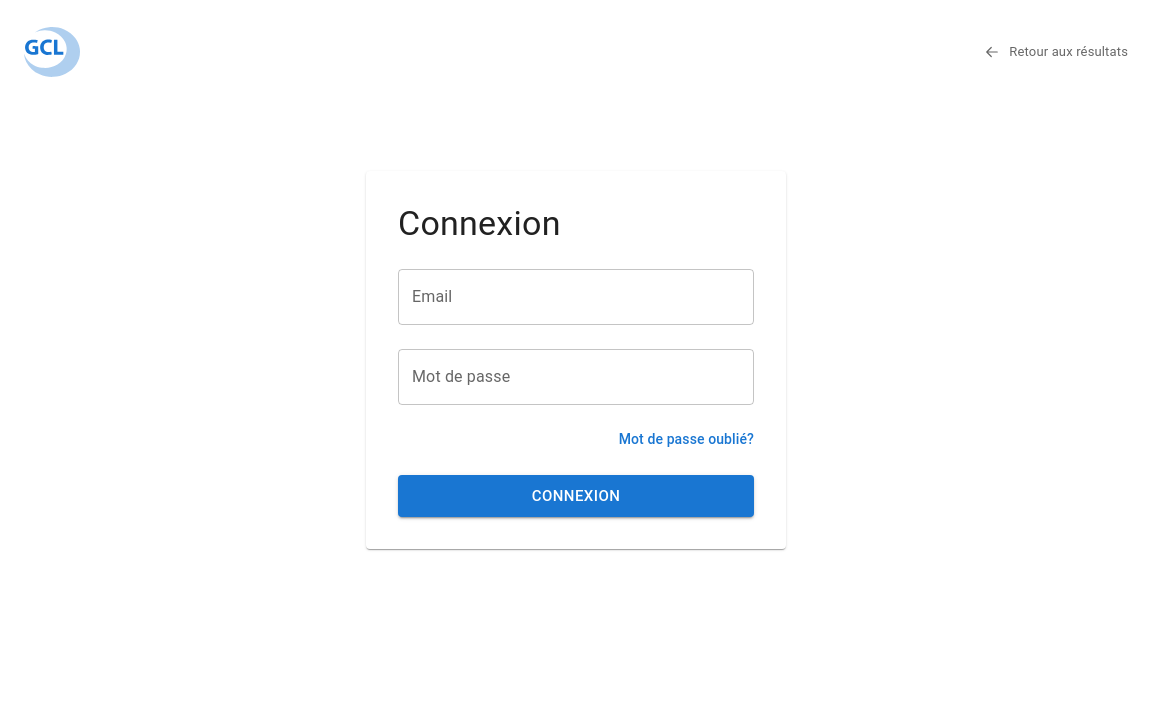
Test: login › toggles password visibility without changing the entered password
Type "example-password" into the password field labelled "Mot de passe" at {"x": 563, "y": 377}, box left=398, top=349, right=728, bottom=405
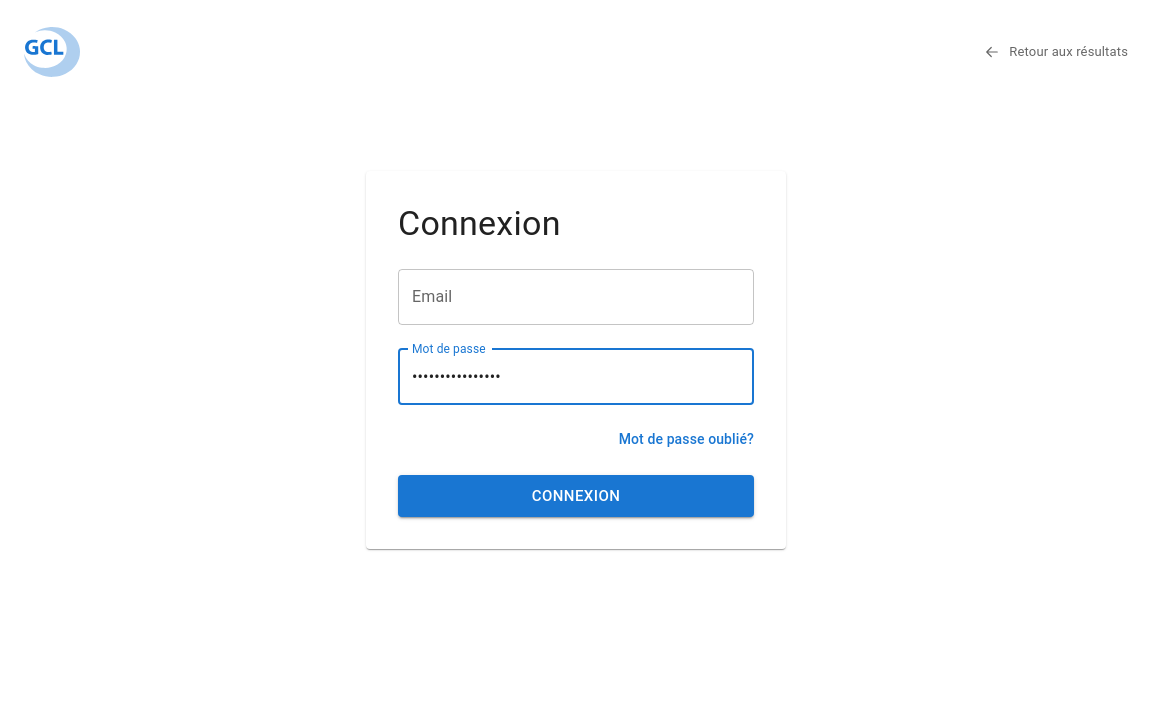
Click the button named "Afficher le mot de passe" at {"x": 744, "y": 377}, box left=736, top=369, right=752, bottom=385
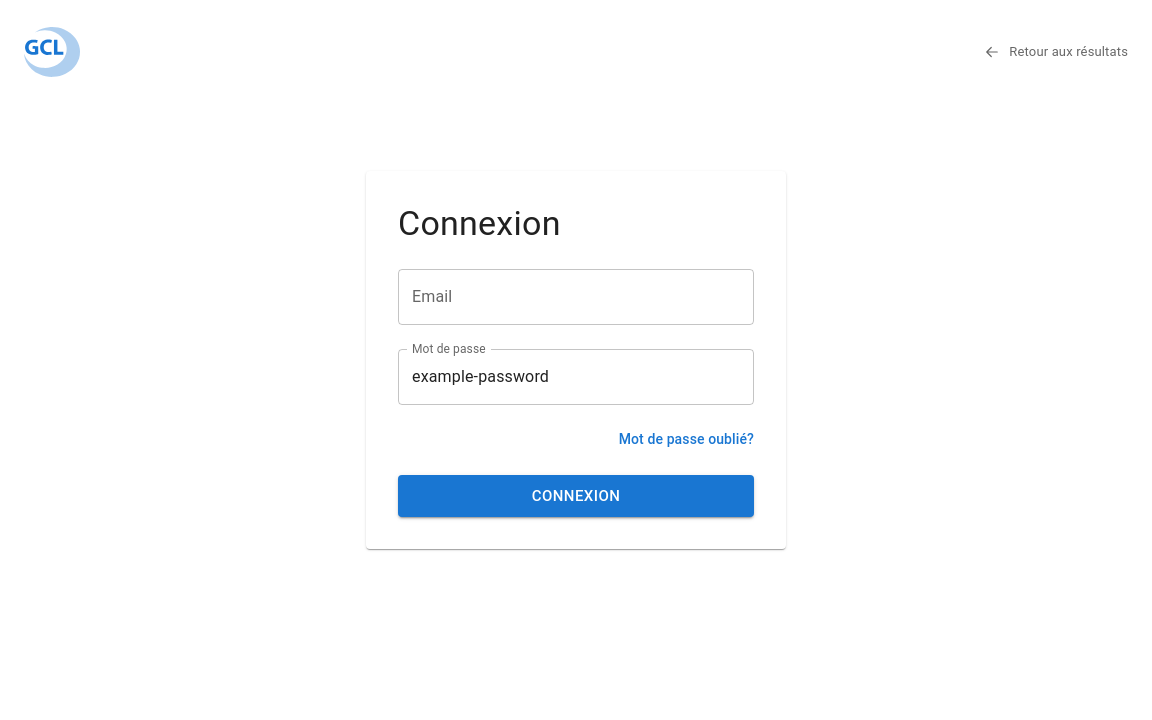
Now the field labelled "Mot de passe" shows its text, box left=398, top=349, right=728, bottom=405
Click the button named "Masquer le mot de passe" at {"x": 744, "y": 377}, box left=736, top=369, right=752, bottom=385
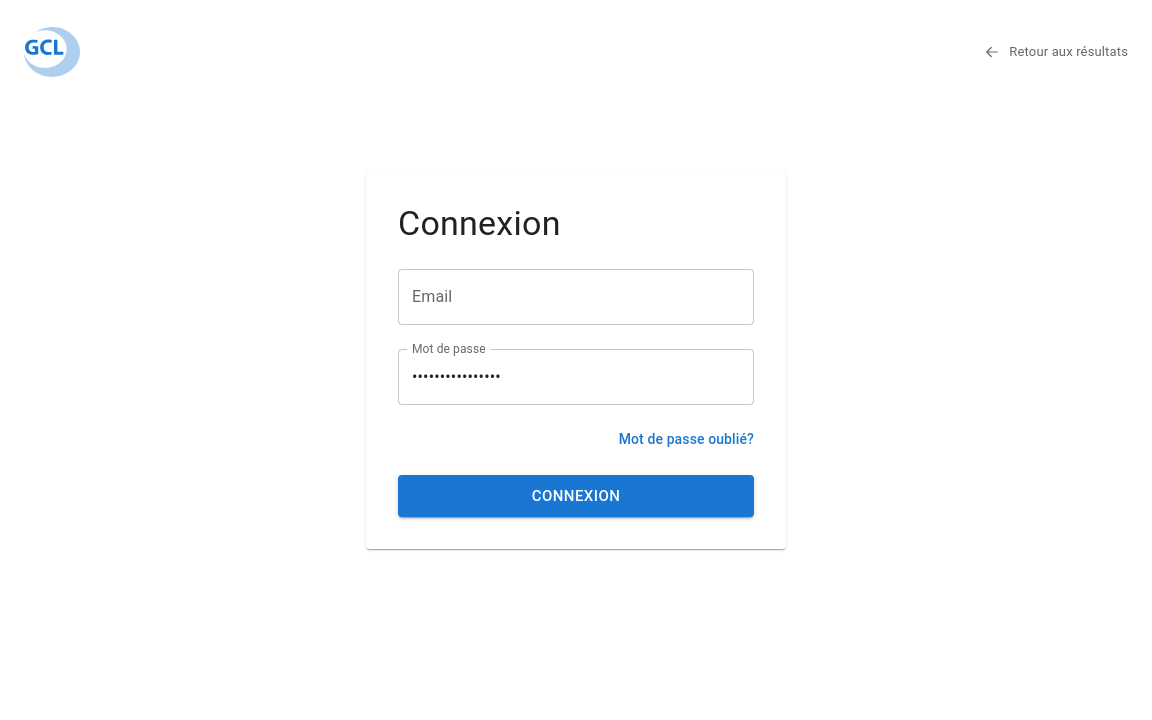
Now the password field labelled "Mot de passe" hides its text, box left=398, top=349, right=728, bottom=405
